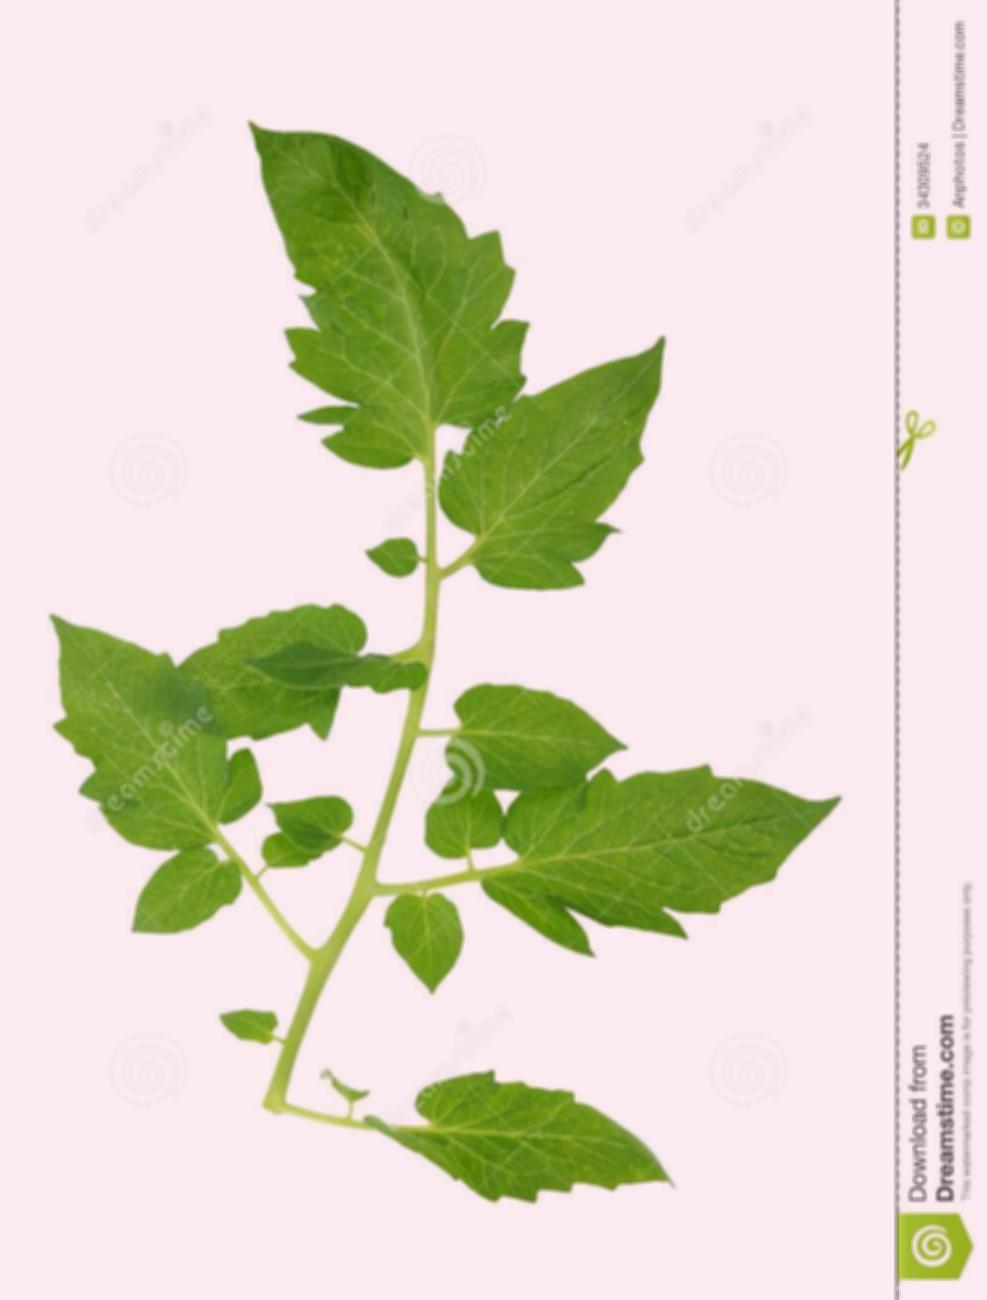Tomato leaf: (197, 97, 523, 482), (416, 326, 704, 640), (480, 770, 863, 961), (40, 586, 261, 870), (385, 1037, 695, 1238), (180, 563, 389, 757), (423, 670, 661, 821)
